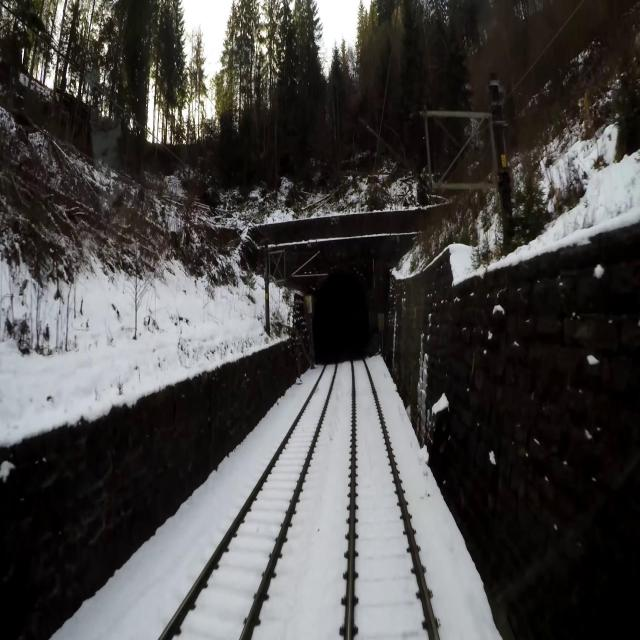rail-track: (351, 340, 434, 639)
